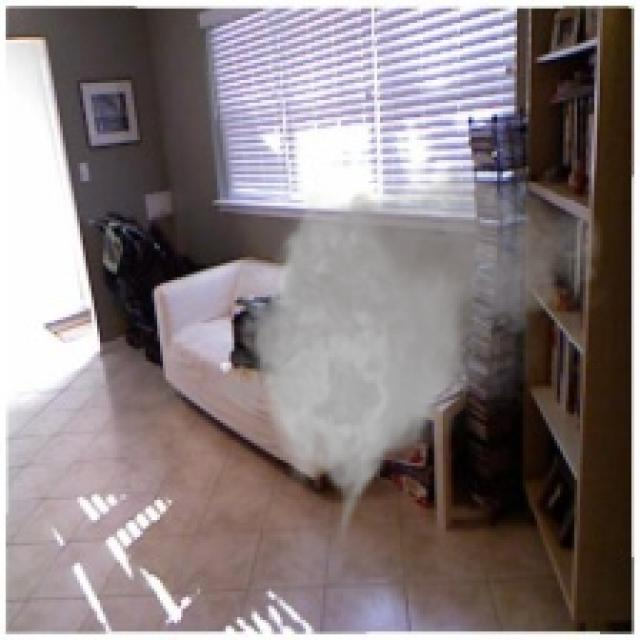smoke: (206, 152, 608, 548)
